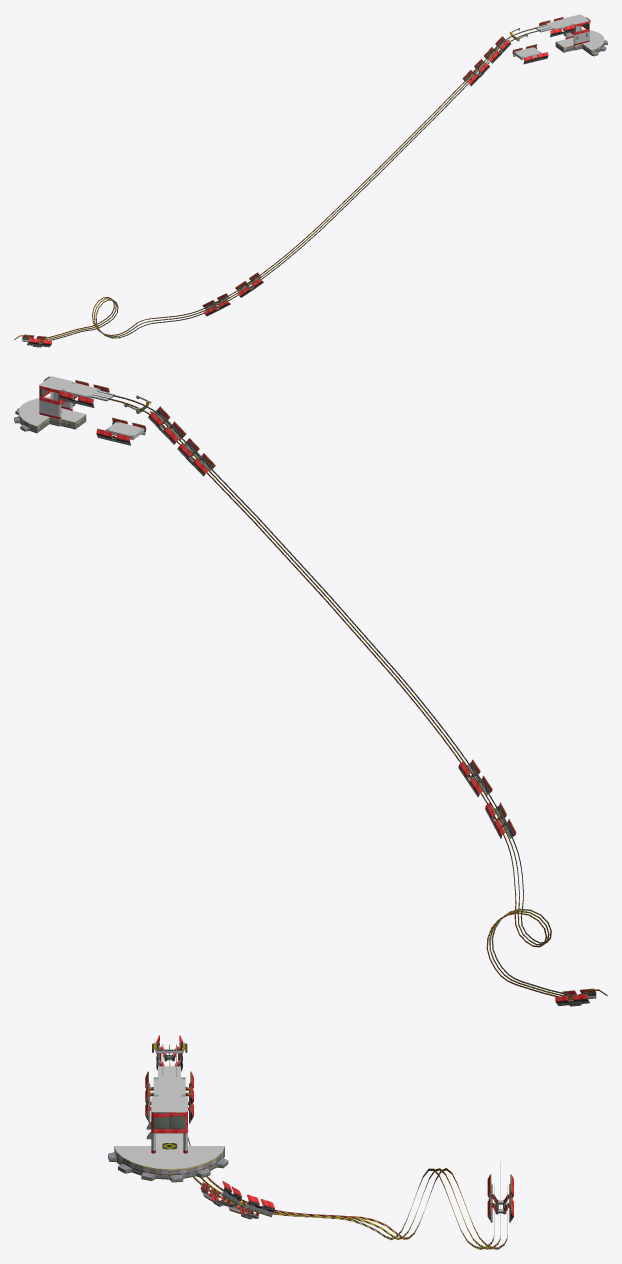
File: 2P_Rail_canyon1.obj
3 views of the same model, one above another, from view 1: azimuth 30°, elevation 25°; view 2: azimuth 150°, elevation 25°; view 3: azimuth 270°, elevation 25° (orthographic). The views are drawn at different scales.
Visible parts, largest first — view 1: Object_2, obj2, obj1; view 2: Object_2, obj2, obj1; view 3: Object_2, obj2, obj1.
Boxes of the visible parts, x1,y1,x2,y2 form: Object_2: (14,17,607,347); obj2: (514,14,604,57); obj1: (517,15,603,56); Object_2: (14,380,607,1006); obj2: (18,376,143,436); obj1: (20,377,139,434); Object_2: (108,1035,513,1249); obj2: (114,1066,224,1169); obj1: (144,1079,194,1168).
Size of the model in its own units: 5097 by 2677 by 1767.
